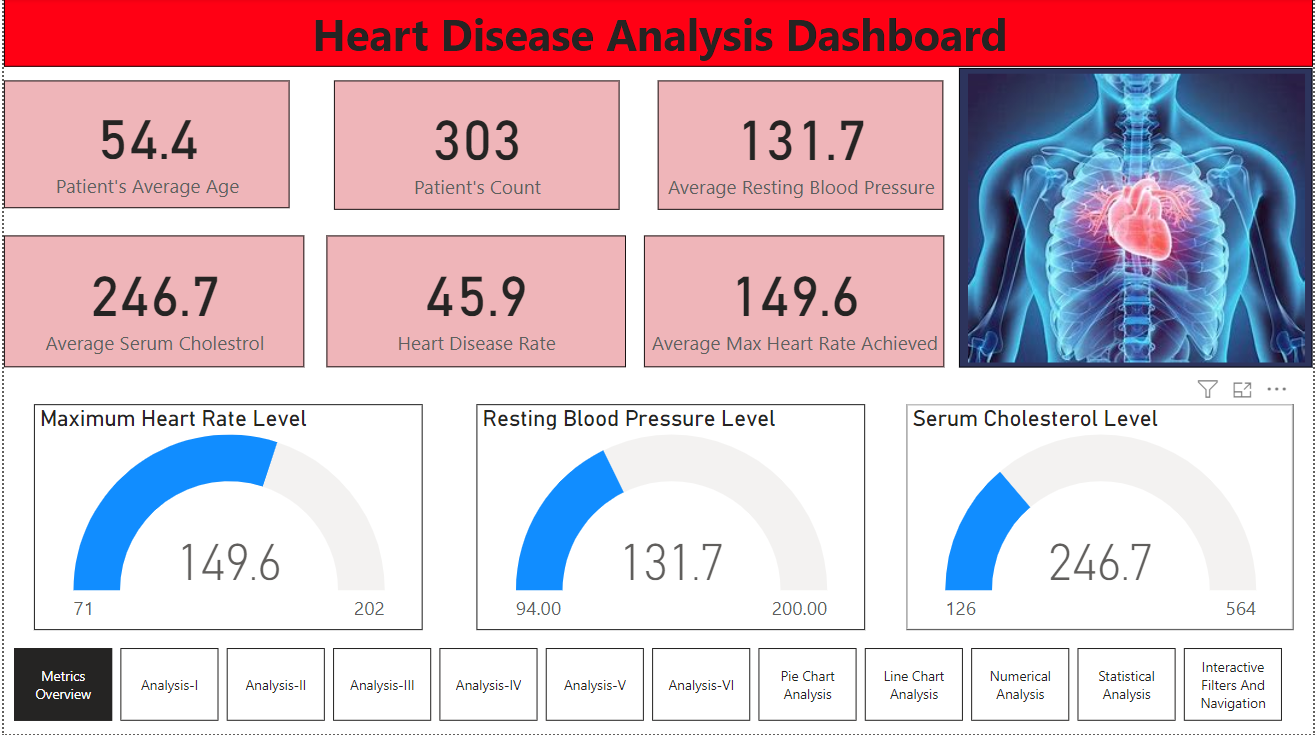

The dashboard page shown, as its layout file describes it:
{"tool":"powerbi","page":{"name":"Metrics Overview","canvas":[1280,720],"ordinal":0},"visuals":[{"type":"textbox","box":[0,0,1280.3,67.5],"z":0},{"type":"image","box":[934.4,68,345.8,292.5],"z":1000},{"type":"card","fields":{"Values":["Avg(heart_disease_dataset.age)"]},"box":[0,80.1,279.1,125],"z":2000},{"type":"card","fields":{"Values":["CountNonNull(heart_disease_dataset.sex)"]},"box":[322.8,80.1,279.1,126.2],"z":3000},{"type":"card","fields":{"Values":["Avg(heart_disease_dataset.Resting Blood Pressure)"]},"box":[639.5,80.1,279.1,126.2],"z":4000},{"type":"card","fields":{"Values":["Avg(heart_disease_dataset.Serum Cholestrol)"]},"box":[0,231.8,293.7,128.6],"z":5000},{"type":"card","fields":{"Values":["Avg(heart_disease_dataset.Max Heart Rate Achieved)"]},"box":[626.2,231.8,293.7,128.6],"z":6000},{"type":"card","fields":{"Values":["heart_disease_dataset.Heart Disease Rate"]},"box":[315.5,231.8,292.5,128.6],"z":7000},{"type":"gauge","title":"Maximum Heart Rate Level","fields":{"MaxValue":["Max(heart_disease_dataset.Max Heart Rate Achieved)"],"Y":["Avg(heart_disease_dataset.Max Heart Rate Achieved)"],"MinValue":["Min(heart_disease_dataset.Max Heart Rate Achieved)1"]},"box":[29.1,396.8,379.8,220.9],"z":8000},{"type":"gauge","title":"Resting Blood Pressure Level","fields":{"Y":["Avg(heart_disease_dataset.Resting Blood Pressure)"],"MinValue":["Min(heart_disease_dataset.Resting Blood Pressure)"],"MaxValue":["Max(heart_disease_dataset.Resting Blood Pressure)"]},"box":[462.3,396.8,379.8,220.9],"z":9000},{"type":"gauge","title":"Serum Cholesterol Level","fields":{"Y":["Avg(heart_disease_dataset.Serum Cholestrol)"],"MinValue":["Min(heart_disease_dataset.Serum Cholestrol)"],"MaxValue":["Max(heart_disease_dataset.Serum Cholestrol)"]},"box":[882.2,396.8,378.6,220.9],"z":10000},{"type":"pageNavigator","box":[9.7,635.9,1251.1,71.6],"z":11000}]}

Visuals, with their boxes in screenshot pixels (x1, y1, x2, y2), scaled from the page's 1280x720 canvas onto the 1316x735 screenshot:
textbox: <region>0, 0, 1315, 69</region>
image: <region>961, 69, 1315, 368</region>
card - Avg(heart_disease_dataset.age): <region>0, 82, 287, 209</region>
card - CountNonNull(heart_disease_dataset.sex): <region>332, 82, 619, 211</region>
card - Avg(heart_disease_dataset.Resting Blood Pressure): <region>657, 82, 944, 211</region>
card - Avg(heart_disease_dataset.Serum Cholestrol): <region>0, 237, 302, 368</region>
card - Avg(heart_disease_dataset.Max Heart Rate Achieved): <region>644, 237, 946, 368</region>
card - heart_disease_dataset.Heart Disease Rate: <region>324, 237, 625, 368</region>
"Maximum Heart Rate Level" gauge: <region>30, 405, 420, 631</region>
"Resting Blood Pressure Level" gauge: <region>475, 405, 866, 631</region>
"Serum Cholesterol Level" gauge: <region>907, 405, 1296, 631</region>
pageNavigator: <region>10, 649, 1296, 722</region>
